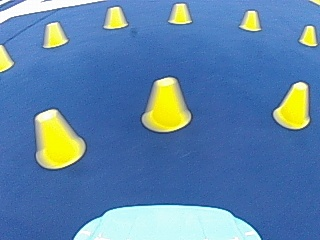cone: (32, 109, 83, 168), (142, 76, 190, 132), (273, 82, 310, 129), (42, 21, 68, 48), (103, 5, 127, 29), (168, 3, 192, 25), (239, 9, 261, 31), (298, 24, 317, 46), (0, 44, 14, 71)
